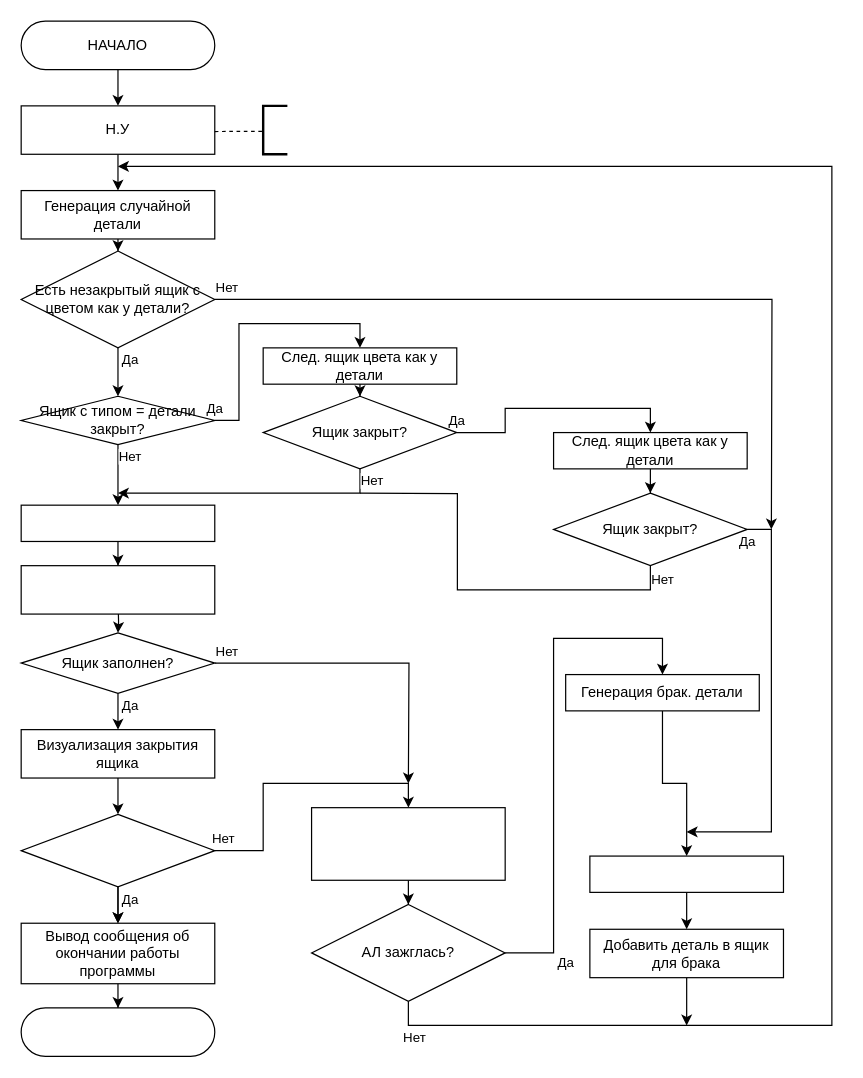
Image size: 863x1078. Some labels were removed from this diagram. The shapes that lost their labels are listed below. From the top down, each one's centre as x and y in pixels, then its label:
(x=274, y=129): М - массив детелей M2 - массив ящиков
(x=117, y=522): Деталь "летит" в ящик (визуализация)
(x=117, y=589): Добавить деталь в ящик
(x=117, y=850): Все ящики заполнены?
(x=407, y=843): Генерация АЛ
(x=686, y=873): Детали "летит" в брак (визуализация)
(x=117, y=1031): КОНЕЦ
